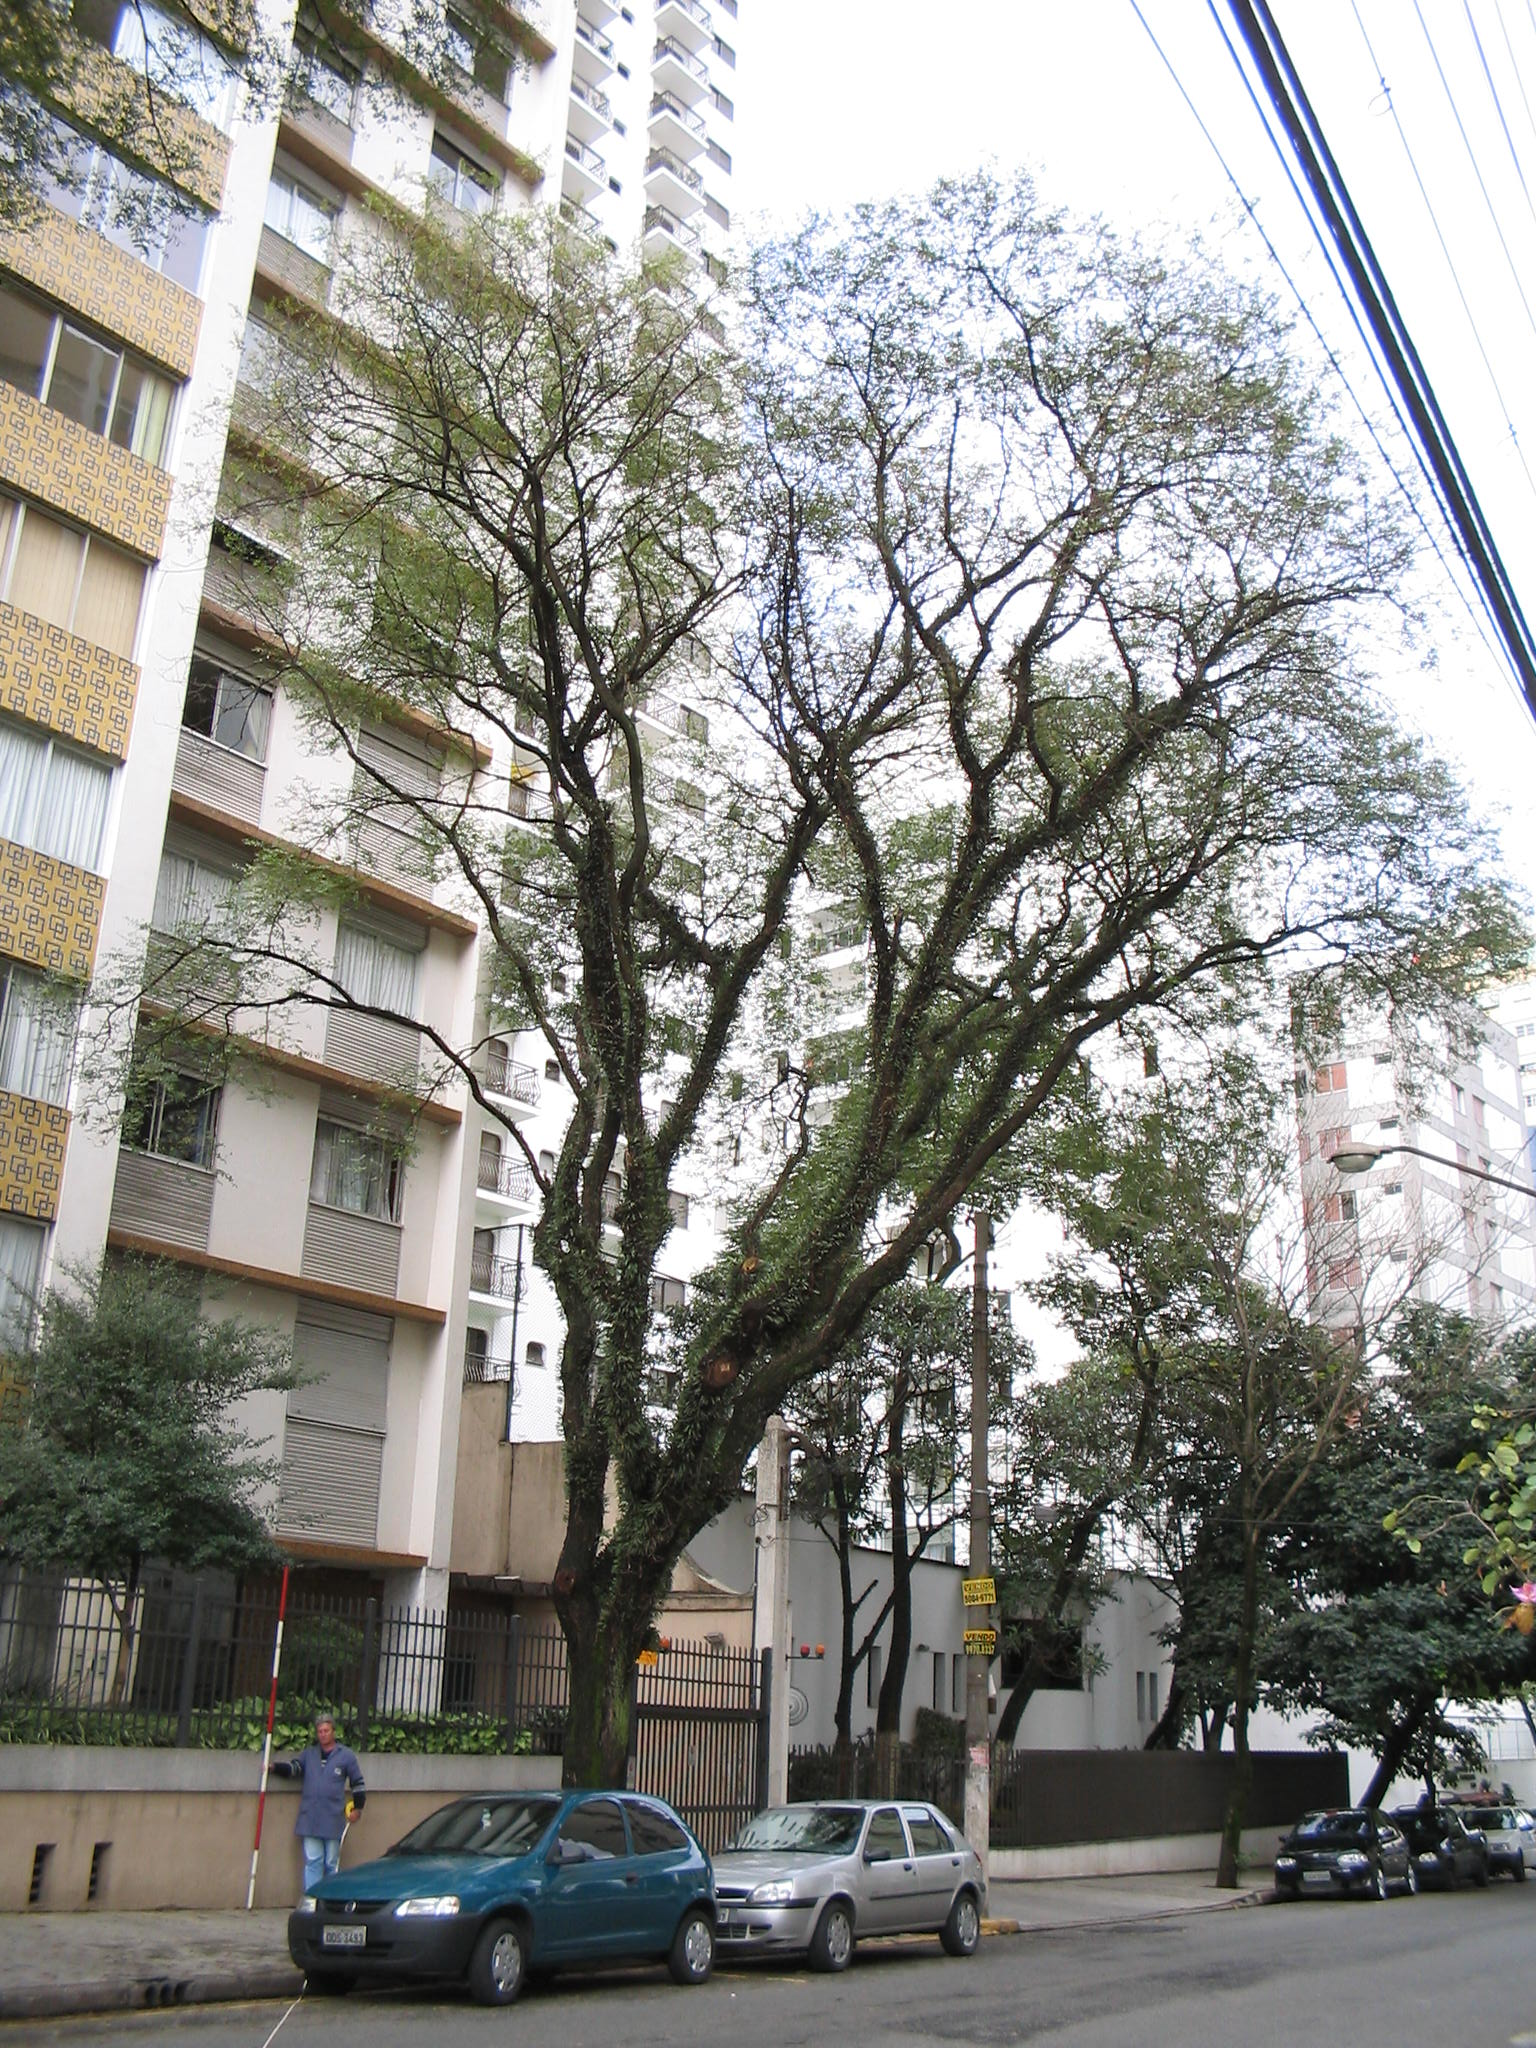stem: (507, 1596, 679, 1909)
stick: (232, 1561, 307, 1908)
tree: (48, 168, 1530, 1906)
